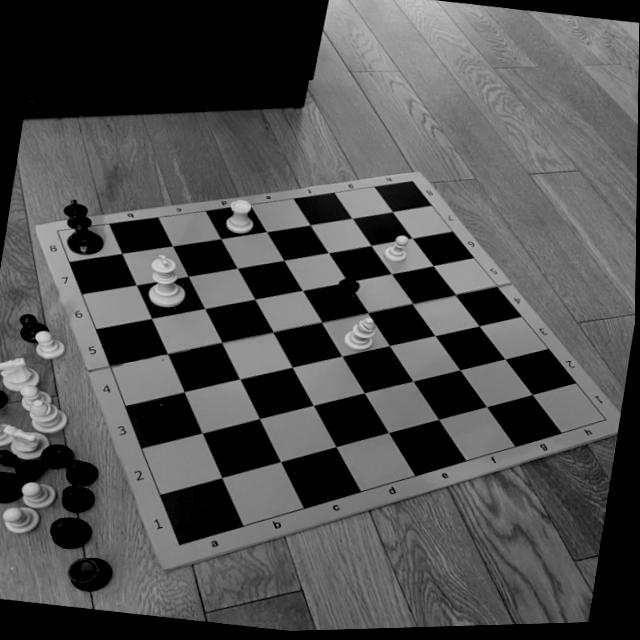Chessboard-Corners: (593, 414, 614, 430), (52, 228, 68, 239), (405, 181, 420, 192), (176, 540, 189, 552)
